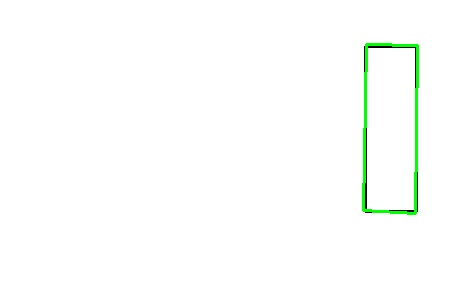line_segment: (363, 44, 419, 214)
